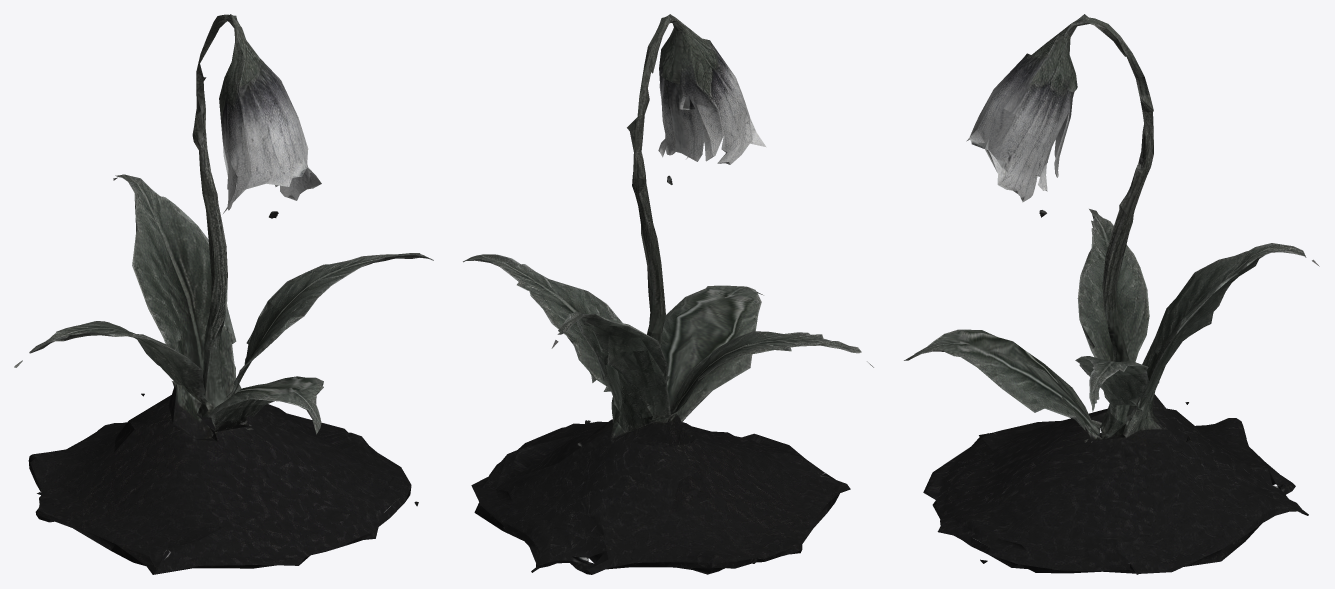
The model's file is m11-moonbell.glb.
The picture shows the model from 3 angles, left to right: view 1: azimuth 30°, elevation 25°; view 2: azimuth 150°, elevation 25°; view 3: azimuth 270°, elevation 25°; orthographic projection.
Size of the model in its own units: 1.66 by 1.87 by 1.45.
1 material, 1 textured.
